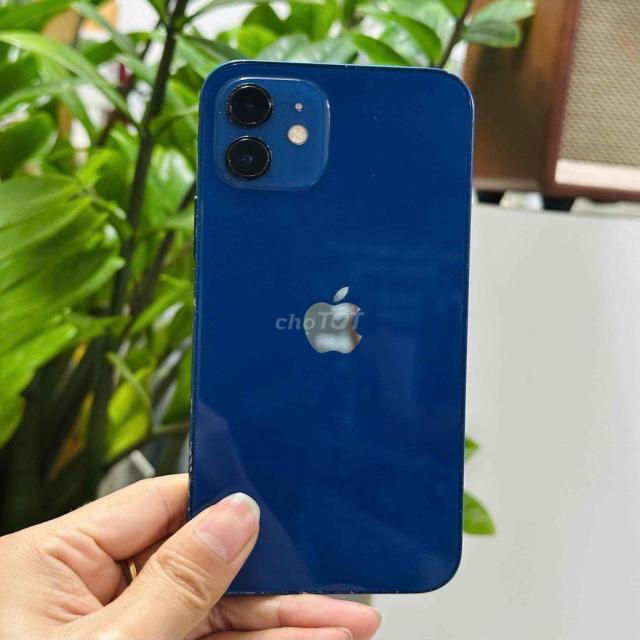gen_12_13: (190, 58, 467, 600)
